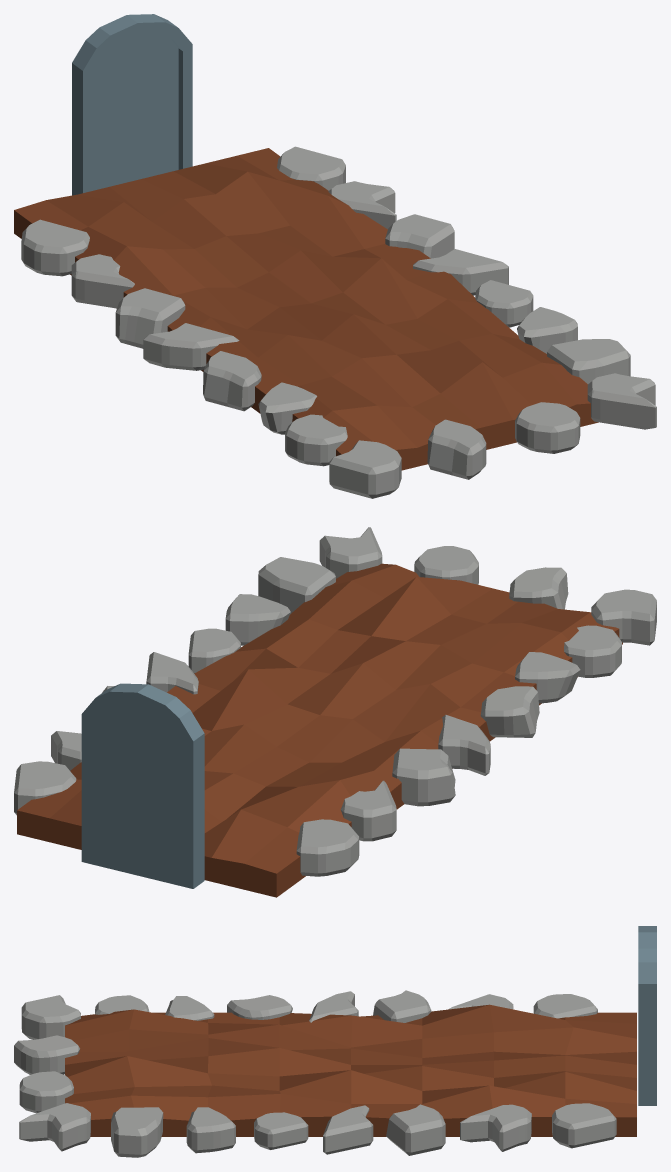
Rendered from Grave_1.glb.
3 renders of one model, top to bottom at view 1: azimuth 30°, elevation 25°; view 2: azimuth 150°, elevation 25°; view 3: azimuth 270°, elevation 25°, orthographic. The views are drawn at different scales.
Visible parts, largest first — view 1: Grave 1; view 2: Grave 1; view 3: Grave 1.
Part boxes in pixels (bbox=[...]): Grave 1: bbox=[14, 14, 656, 498]; Grave 1: bbox=[14, 527, 656, 897]; Grave 1: bbox=[14, 926, 656, 1157].
Size of the model in its own units: 1.08 by 0.5243 by 2.02.
